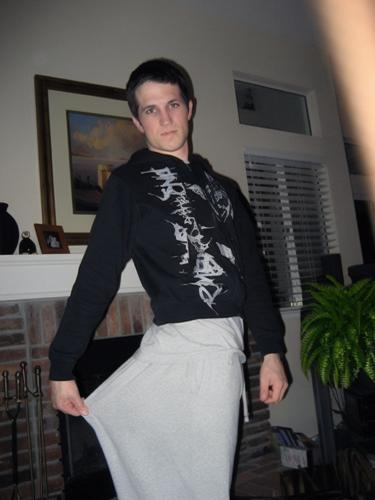person: (45, 57, 294, 500)
person/hand: (255, 351, 292, 406), (47, 374, 89, 420)
person/head: (125, 59, 196, 155)
pottedplant: (300, 275, 375, 387)
